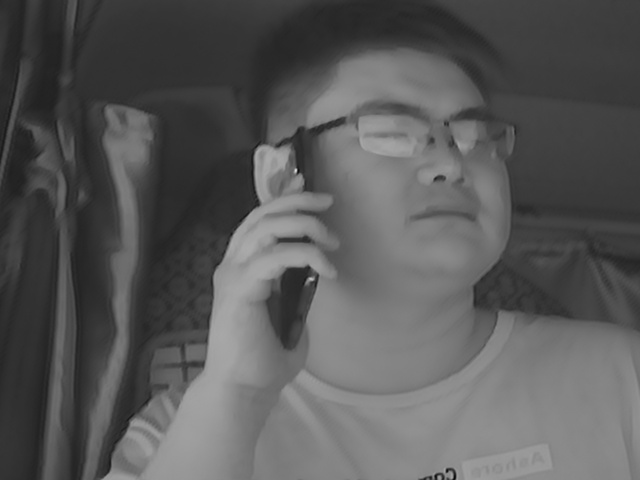hand: (209, 178, 332, 368)
